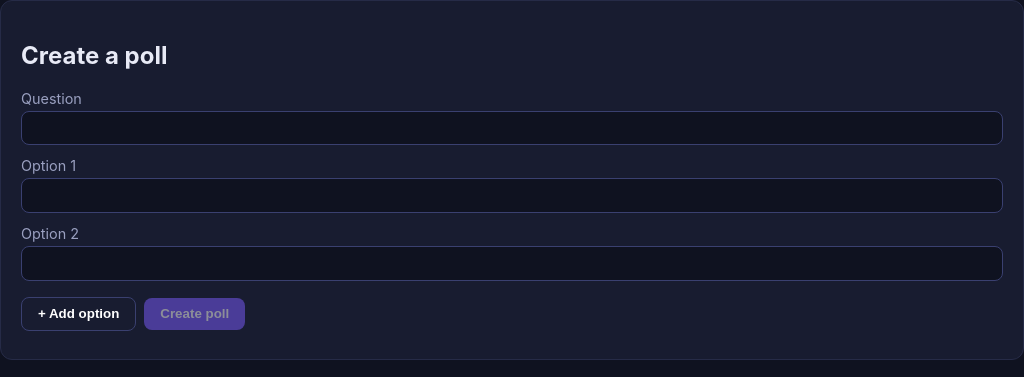
CreatePoll form › submit is disabled until there is a question and at least 2 non-empty options
Expected: the button "Create poll" is disabled, [144, 298, 245, 330]
Step 1. Type "Q?" into the field labelled "Question" → x=512, y=128, box [21, 111, 1003, 145]
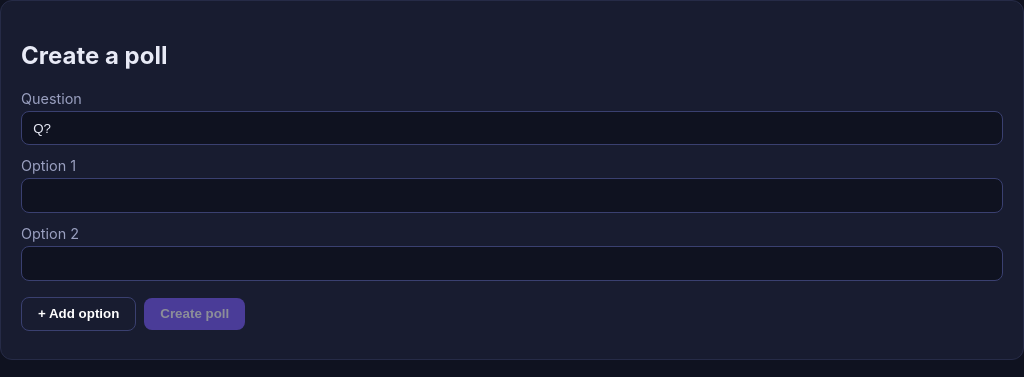
Step 2. Type "A" into the field labelled "Option 1" → x=512, y=196, box [21, 178, 1003, 213]
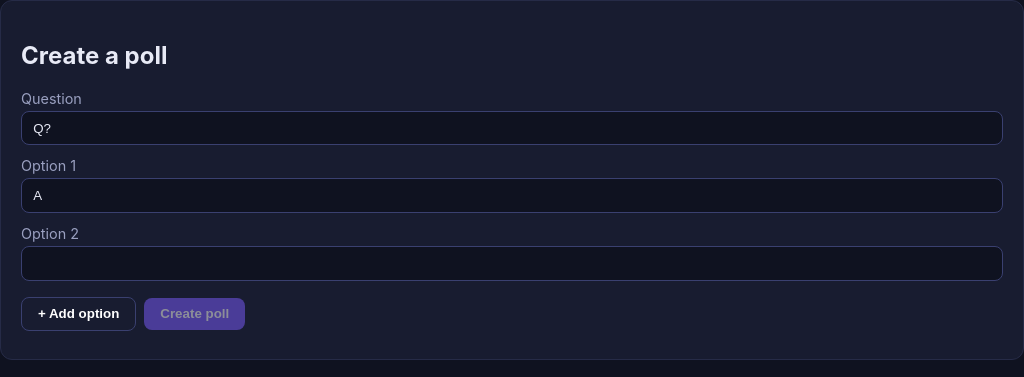
Expected: the button "Create poll" is disabled, [144, 298, 245, 330]
Step 3. Type "B" into the field labelled "Option 2" → x=512, y=263, box [21, 246, 1003, 281]
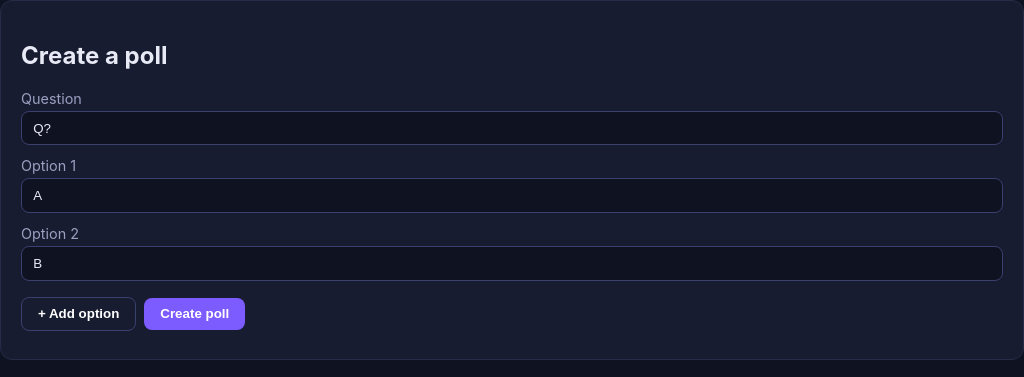
Now the button "Create poll" is enabled, box [144, 298, 245, 330]
